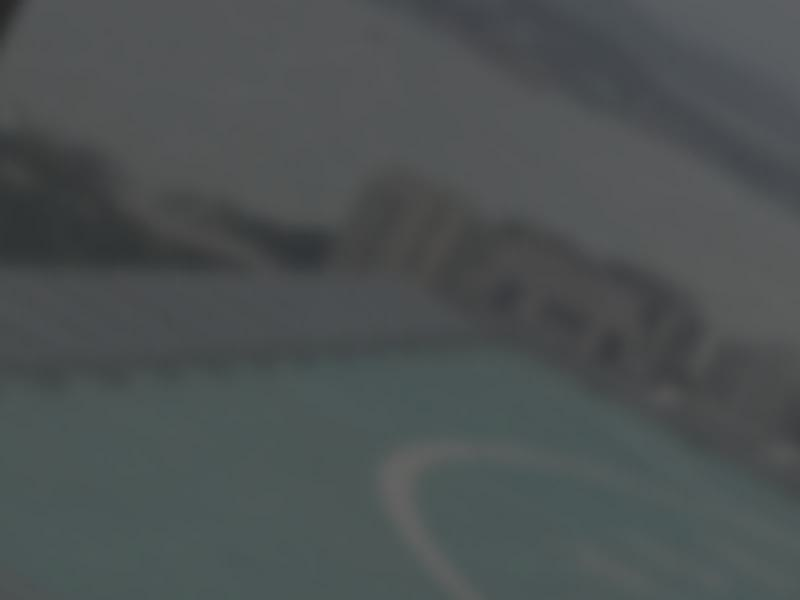Apron: (377, 435, 800, 597)
